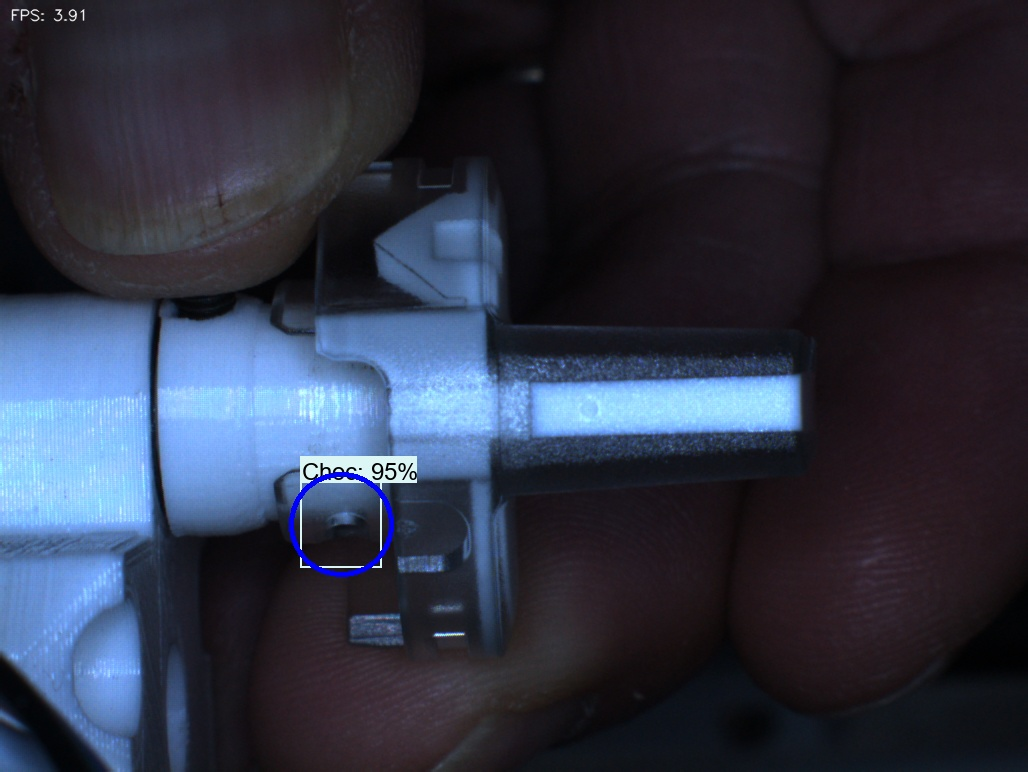DentOk: (342, 216, 420, 297)
